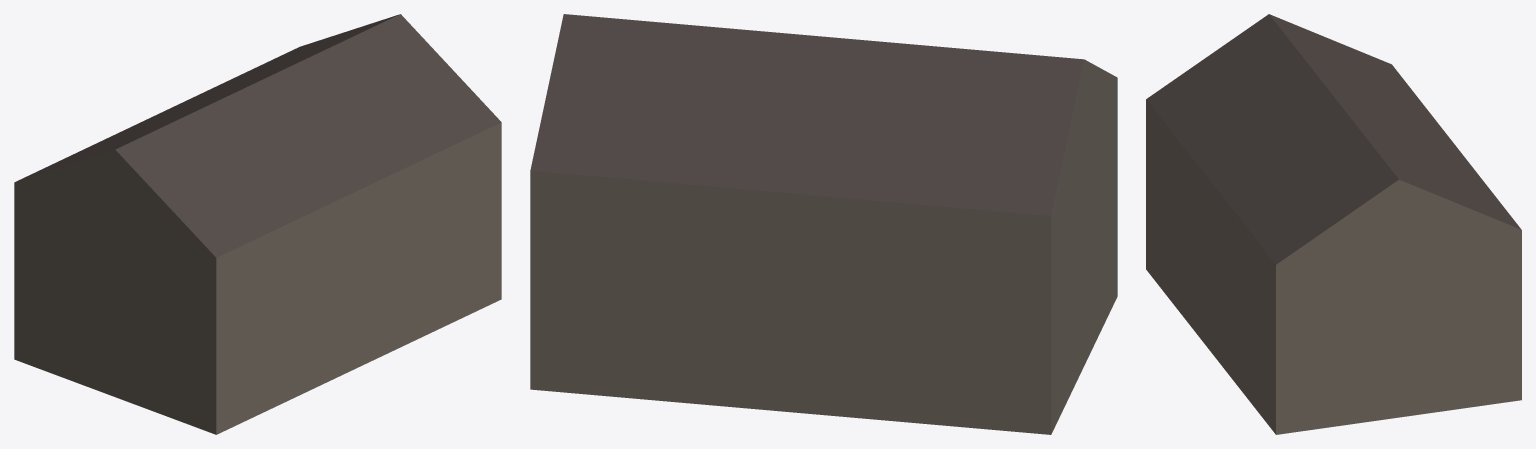
The picture shows the model from 3 angles, left to right: view 1: azimuth 30°, elevation 25°; view 2: azimuth 150°, elevation 25°; view 3: azimuth 270°, elevation 25°; orthographic projection. The views are drawn at different scales.
Parts seen in each view (by area): view 1: HP-w859082468; view 2: HP-w859082468; view 3: HP-w859082468.
Part boxes in pixels (x1,y1,x2,y2): HP-w859082468: [14, 14, 501, 434]; HP-w859082468: [530, 14, 1117, 434]; HP-w859082468: [1146, 14, 1521, 434].
Size of the model in its own units: 22.73 by 12.59 by 18.02.
